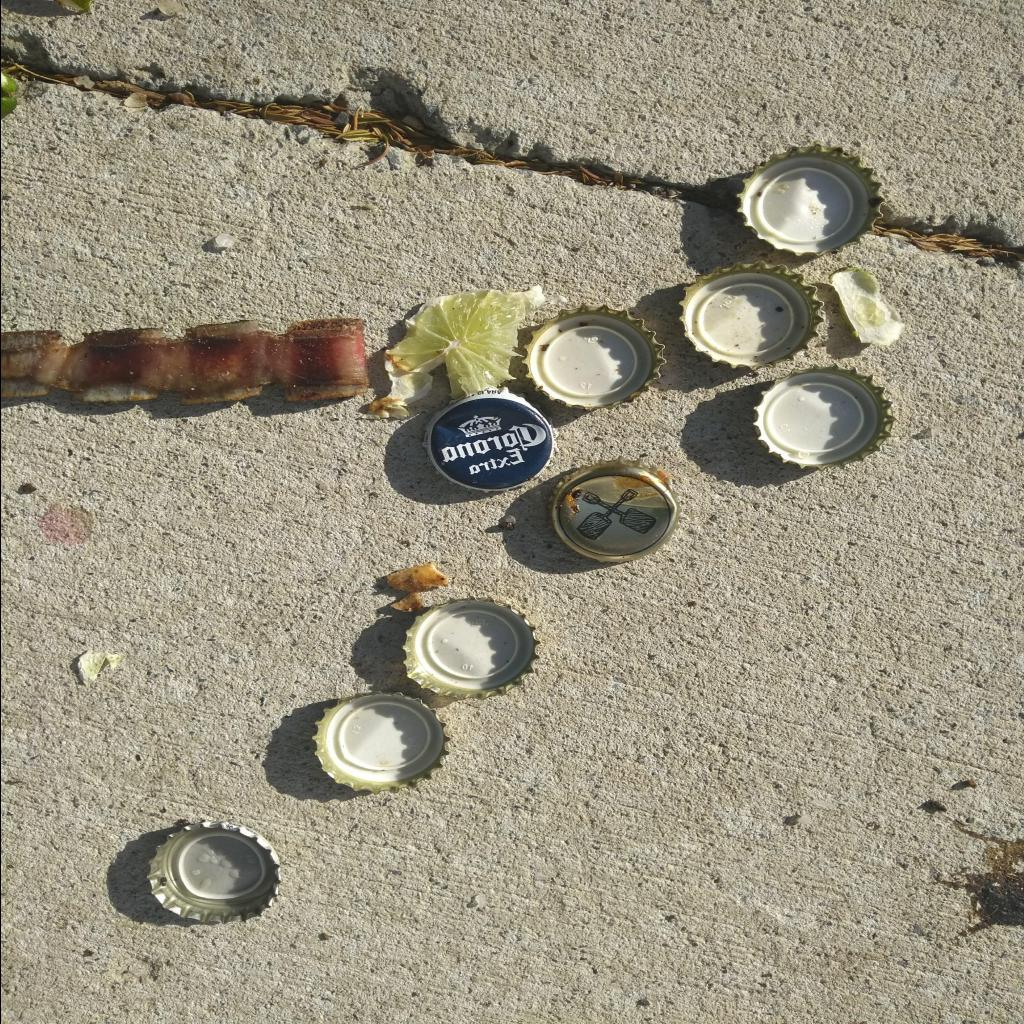Metal bottle cap: (734, 145, 886, 257), (678, 262, 822, 371), (752, 364, 896, 470), (522, 306, 664, 410), (402, 596, 542, 700), (545, 456, 679, 563), (312, 691, 450, 793), (421, 388, 556, 492), (146, 820, 280, 922)
